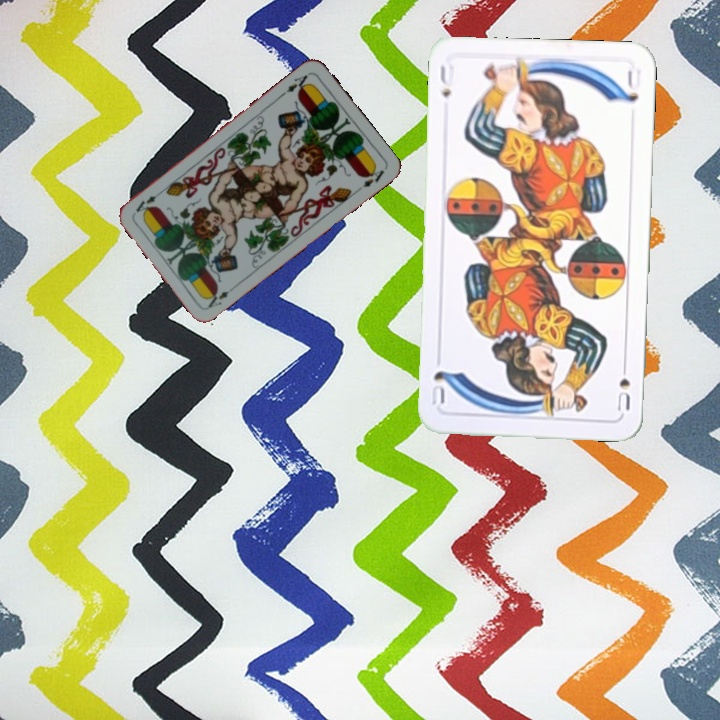EA: (278, 69, 313, 98), (202, 286, 232, 310)
SU: (613, 356, 633, 414), (436, 60, 457, 101)
